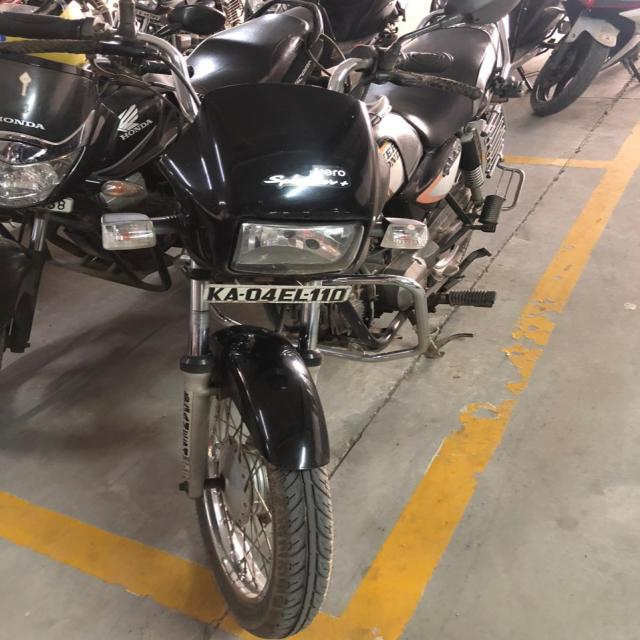license_plate: (203, 283, 353, 303)
